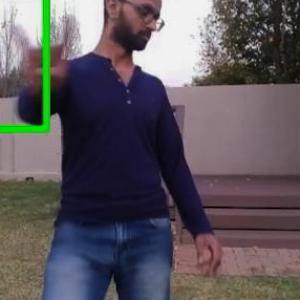takeoff-hand: (4, 6, 88, 103)
